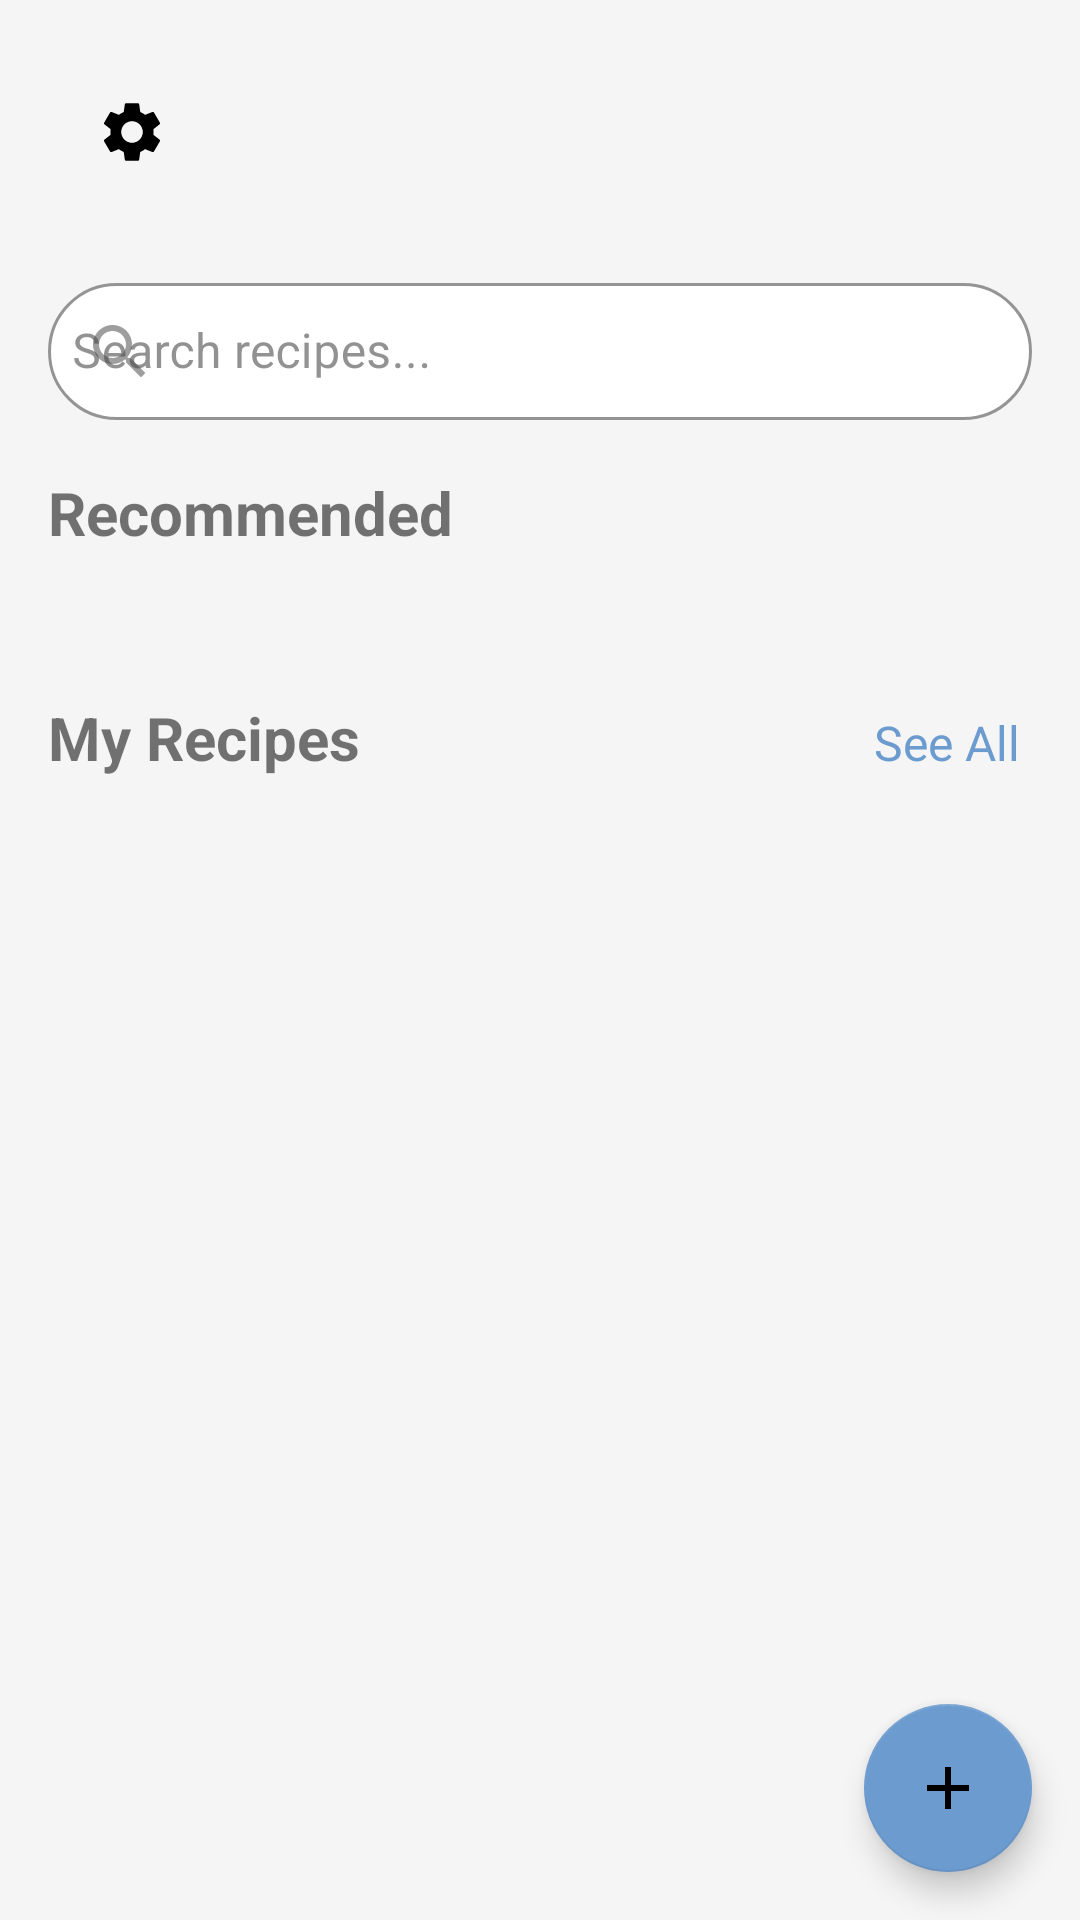

Named icons in this screenshot (1080x1920) and their centers, (x,y):
add: (948,1788)
settings: (132,132)
